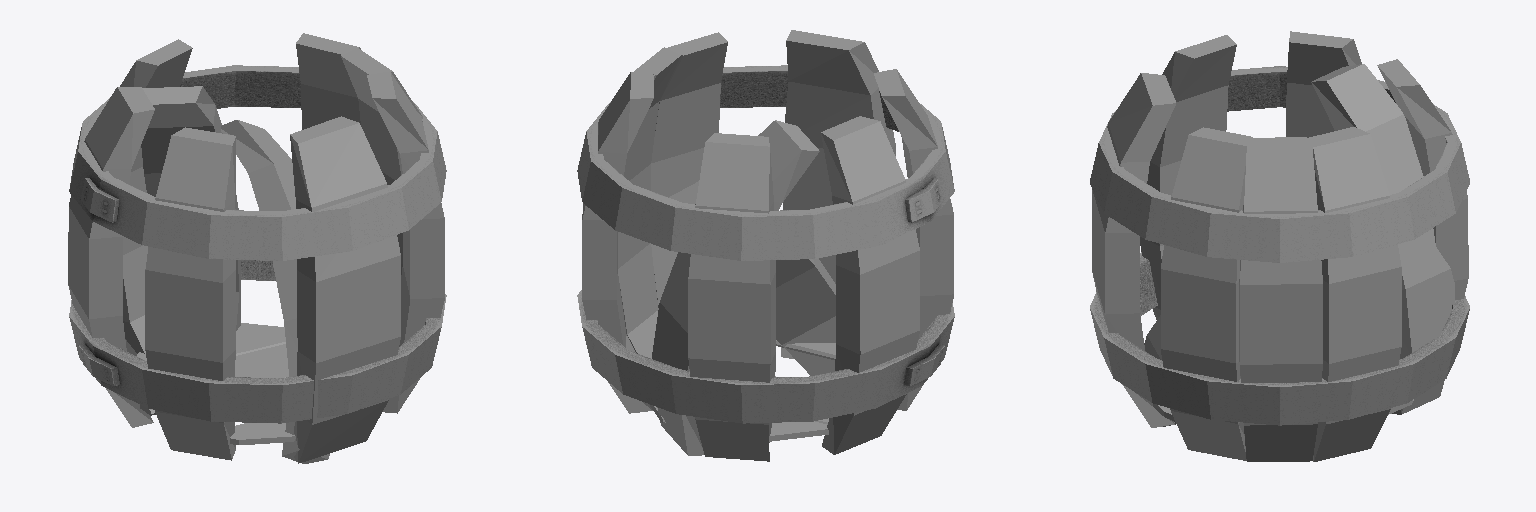
The picture shows the model from 3 angles: view 1: azimuth 30°, elevation 25°; view 2: azimuth 150°, elevation 25°; view 3: azimuth 270°, elevation 25°; orthographic projection.
Parts seen in each view (by area): view 1: Circle.002_Circle.003, Plane.002, Plane.003_Plane.006, Plane.007_Plane.010, Plane.010_Plane.013, Plane.000_Plane.004, Plane.004_Plane.007, Plane.008_Plane.011, Plane.009_Plane.012, Plane.011_Plane.014, Plane.013_Plane.017, Plane_Plane.016 (+1 smaller); view 2: Circle.002_Circle.003, Plane.004_Plane.007, Plane.007_Plane.010, Plane.002, Plane.010_Plane.013, Plane.009_Plane.012, Plane.008_Plane.011, Plane.003_Plane.006, Plane.011_Plane.014, Plane.000_Plane.004, Plane_Plane.016, Plane.015_Plane.019; view 3: Circle.002_Circle.003, Plane.011_Plane.014, Plane.009_Plane.012, Plane.010_Plane.013, Plane.008_Plane.011, Plane.002, Plane.003_Plane.006, Plane.004_Plane.007, Plane.007_Plane.010.
Part boxes in pixels (bbox=[...]): Circle.002_Circle.003: bbox=[69, 65, 446, 423]; Plane.002: bbox=[290, 116, 400, 463]; Plane.003_Plane.006: bbox=[145, 127, 235, 460]; Plane.007_Plane.010: bbox=[68, 87, 154, 427]; Plane.010_Plane.013: bbox=[367, 71, 444, 413]; Plane.000_Plane.004: bbox=[221, 120, 329, 463]; Plane.004_Plane.007: bbox=[120, 39, 192, 355]; Plane.008_Plane.011: bbox=[141, 86, 240, 330]; Plane.009_Plane.012: bbox=[296, 33, 360, 129]; Plane.011_Plane.014: bbox=[341, 48, 422, 274]; Plane.013_Plane.017: bbox=[140, 344, 288, 415]; Plane_Plane.016: bbox=[137, 323, 285, 360]; Circle.002_Circle.003: bbox=[577, 65, 954, 423]; Plane.004_Plane.007: bbox=[688, 133, 775, 461]; Plane.007_Plane.010: bbox=[821, 116, 919, 454]; Plane.002: bbox=[781, 30, 895, 358]; Plane.010_Plane.013: bbox=[651, 32, 727, 307]; Plane.009_Plane.012: bbox=[582, 72, 654, 413]; Plane.008_Plane.011: bbox=[652, 120, 819, 455]; Plane.003_Plane.006: bbox=[874, 69, 953, 410]; Plane.011_Plane.014: bbox=[618, 47, 681, 357]; Plane.000_Plane.004: bbox=[669, 181, 835, 375]; Plane_Plane.016: bbox=[649, 404, 828, 441]; Plane.015_Plane.019: bbox=[776, 340, 835, 359]; Circle.002_Circle.003: bbox=[1090, 66, 1469, 425]; Plane.011_Plane.014: bbox=[1239, 137, 1322, 461]; Plane.009_Plane.012: bbox=[1307, 127, 1401, 461]; Plane.010_Plane.013: bbox=[1161, 127, 1252, 460]; Plane.008_Plane.011: bbox=[1311, 64, 1454, 414]; Plane.002: bbox=[1092, 73, 1175, 427]; Plane.003_Plane.006: bbox=[1140, 35, 1236, 319]; Plane.004_Plane.007: bbox=[1377, 59, 1468, 299]; Plane.007_Plane.010: bbox=[1286, 31, 1361, 137].
Bounding box in the file's own units: 2.8 × 2.72 × 2.77.
2 materials, 1 textured.